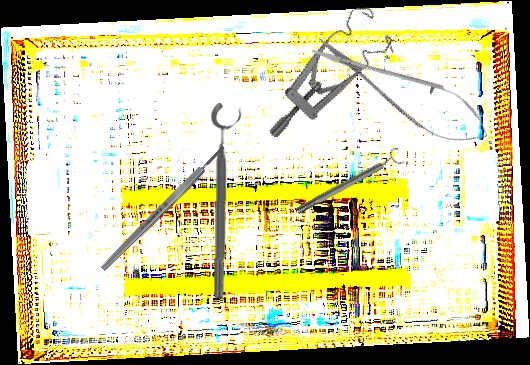Fixation Ring: (292, 146, 406, 219), (207, 103, 244, 299)
Micro Scissor: (303, 22, 500, 159)
Scalpel Handle: (98, 143, 228, 273)
Speculum: (238, 0, 409, 139)
